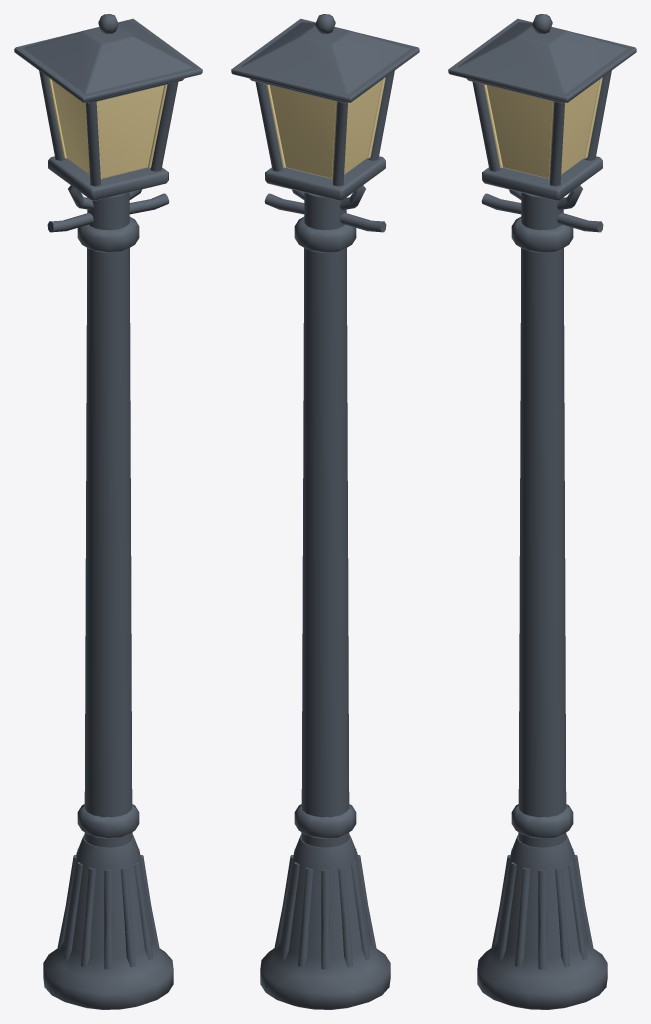
File: fine_town_lamp.glb
3 views of the same model, side by side, from view 1: azimuth 30°, elevation 25°; view 2: azimuth 150°, elevation 25°; view 3: azimuth 330°, elevation 25° (orthographic).
Parts seen in each view (by area): view 1: fine_town_lamp_structure; view 2: fine_town_lamp_structure; view 3: fine_town_lamp_structure.
Part boxes in pixels (x1,y1,x2,y2): fine_town_lamp_structure: (14, 14, 202, 1009); fine_town_lamp_structure: (231, 14, 419, 1009); fine_town_lamp_structure: (448, 14, 636, 1009).
Bounding box in the file's own units: 0.52 × 4.02 × 0.52.
